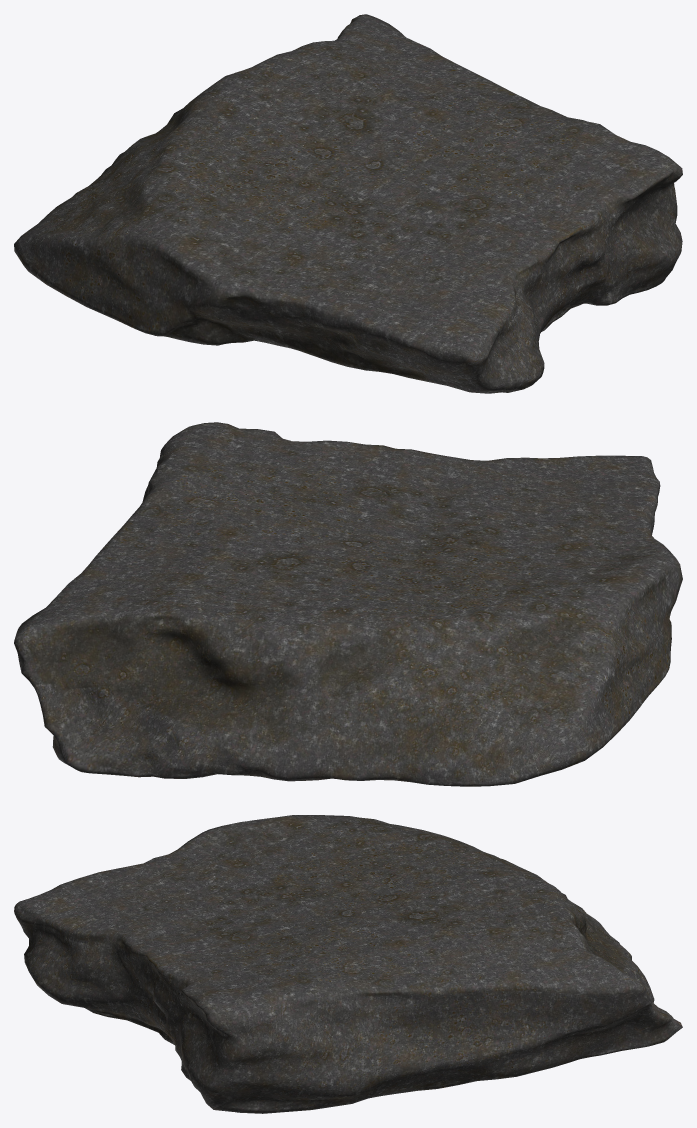
File: set2_rock_18.fbx
3 views of the same model, one above another, from view 1: azimuth 30°, elevation 25°; view 2: azimuth 150°, elevation 25°; view 3: azimuth 270°, elevation 25° (orthographic). The views are drawn at different scales.
Parts seen in each view (by area): view 1: set2_rock_18; view 2: set2_rock_18; view 3: set2_rock_18.
Part boxes in pixels (x1,y1,x2,y2): set2_rock_18: (14,14,682,393); set2_rock_18: (14,422,682,786); set2_rock_18: (14,815,682,1113).
Bounding box in the file's own units: 27.63 × 6.91 × 34.13.
Materials: 1 (1 with a texture image).
